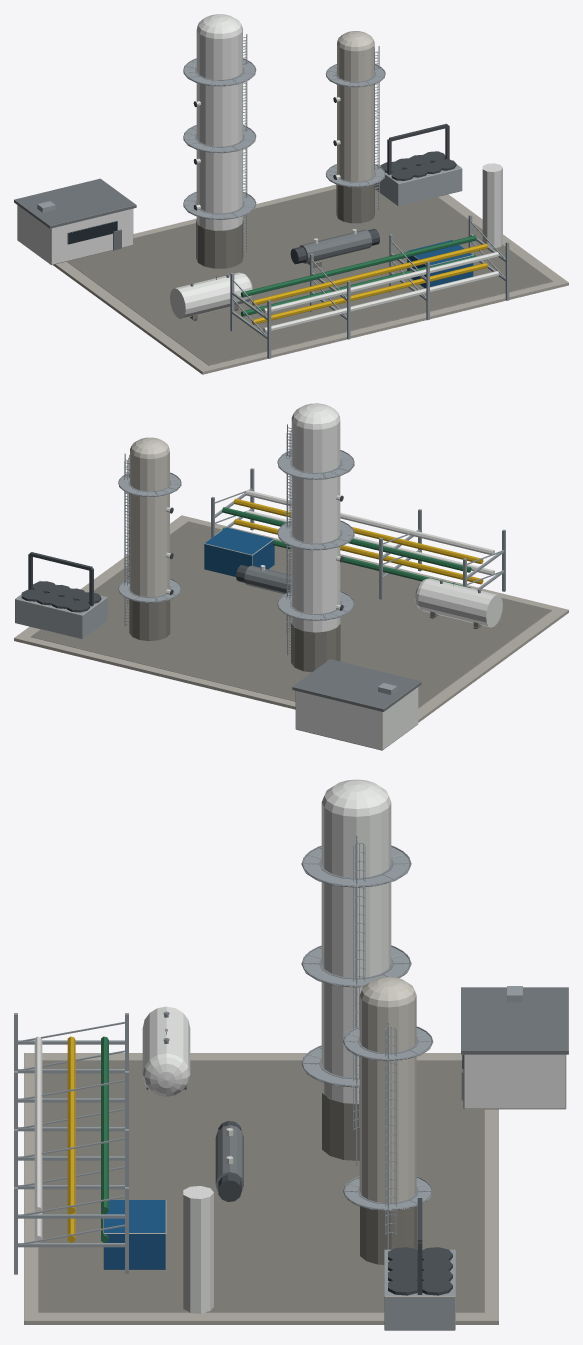
The model's file is ref_amine.glb.
The picture shows the model from 3 angles, top to bottom: view 1: azimuth 30°, elevation 25°; view 2: azimuth 150°, elevation 25°; view 3: azimuth 270°, elevation 25°; orthographic projection. The views are drawn at different scales.
Visible parts, largest first — view 1: ref_amine; view 2: ref_amine; view 3: ref_amine.
Boxes of the visible parts, x1=… form: ref_amine: x1=14, y1=14, x2=568, y2=374; ref_amine: x1=14, y1=403, x2=568, y2=750; ref_amine: x1=14, y1=779, x2=568, y2=1330.
Size of the model in its own units: 42.23 by 25.51 by 35.04.
